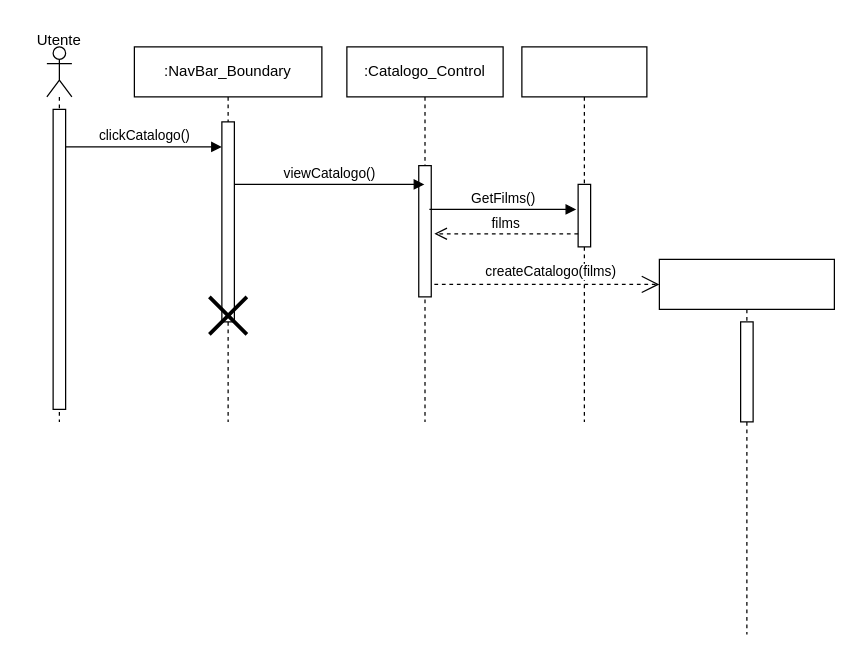
The diagram is 856 pixels wide and 656 high, and some of its shapes have lost their labels. The shapes that lost their labels are listed below. From the top down, each one's centre as x and y in pixels, then its label:
At (x=584, y=234): ":Catalogo".
At (x=746, y=446): ":Catalogo_Boundary".
